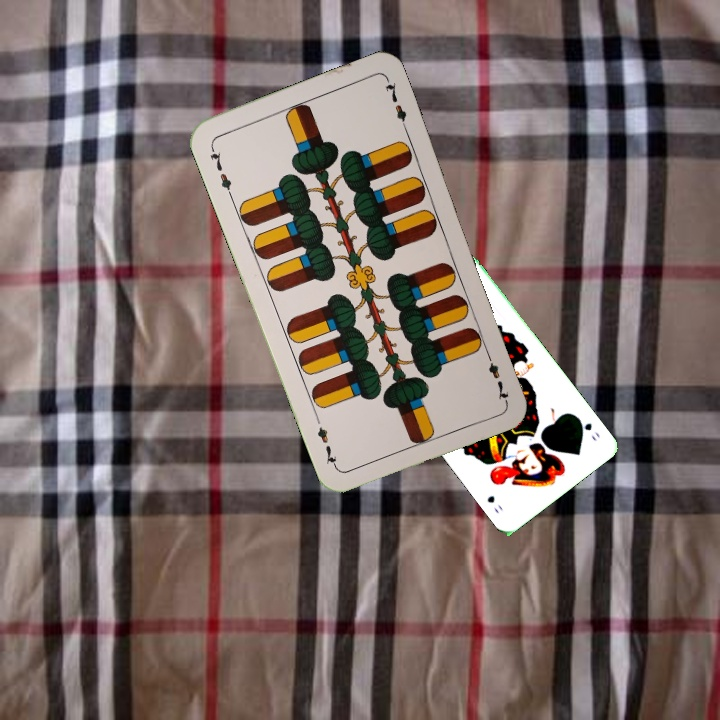E7: (481, 347, 511, 403), (206, 142, 235, 199)
GO: (572, 413, 602, 444)
